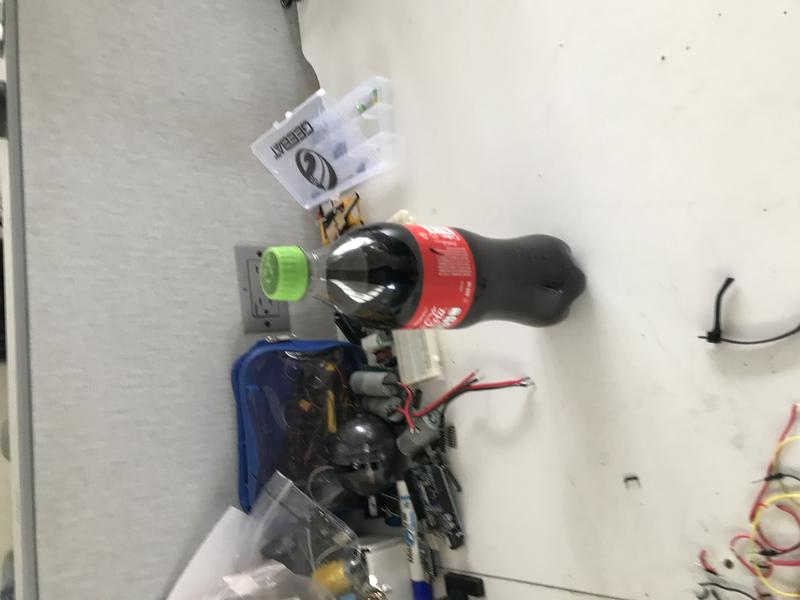coca_cola: (258, 221, 587, 332)
